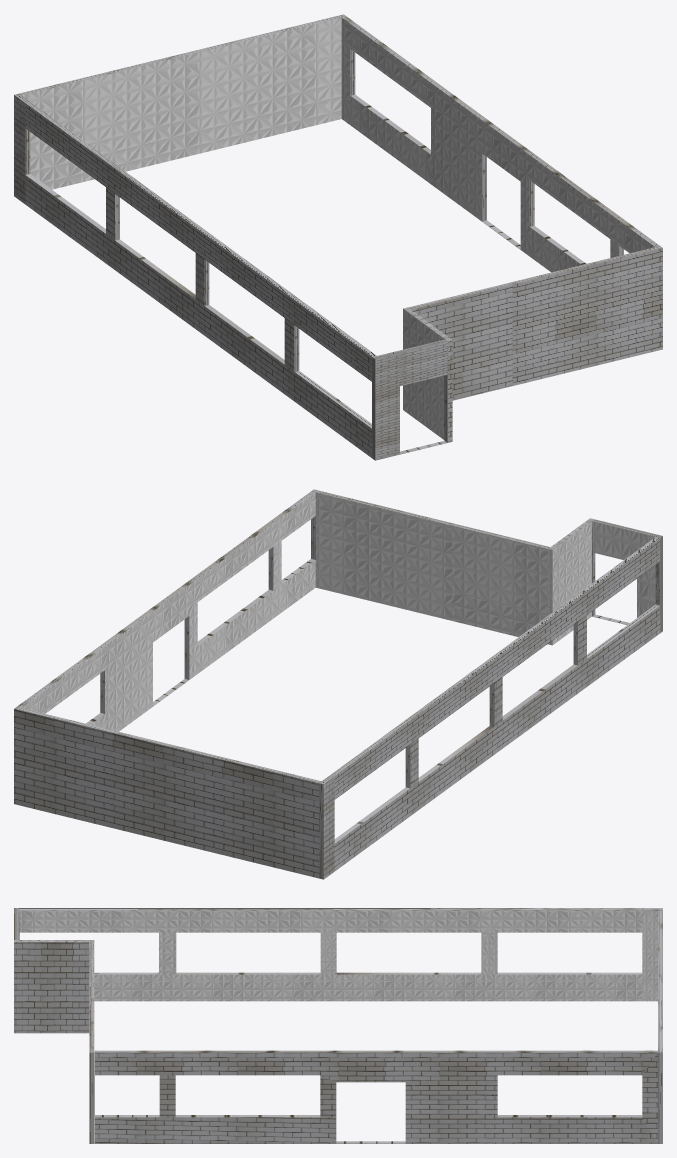
The model's file is ParedesNuevas.obj.
3 views of the same model, one above another, from view 1: azimuth 30°, elevation 25°; view 2: azimuth 150°, elevation 25°; view 3: azimuth 270°, elevation 25° (orthographic). The views are drawn at different scales.
Parts seen in each view (by area): view 1: Plane.017; view 2: Plane.017; view 3: Plane.017.
Boxes of the visible parts, <box> form: Plane.017: <box>14,14,662,460</box>; Plane.017: <box>14,489,662,879</box>; Plane.017: <box>14,908,662,1143</box>.
Size of the model in its own units: 34 by 10 by 64.5.
2 materials, 2 textured.
